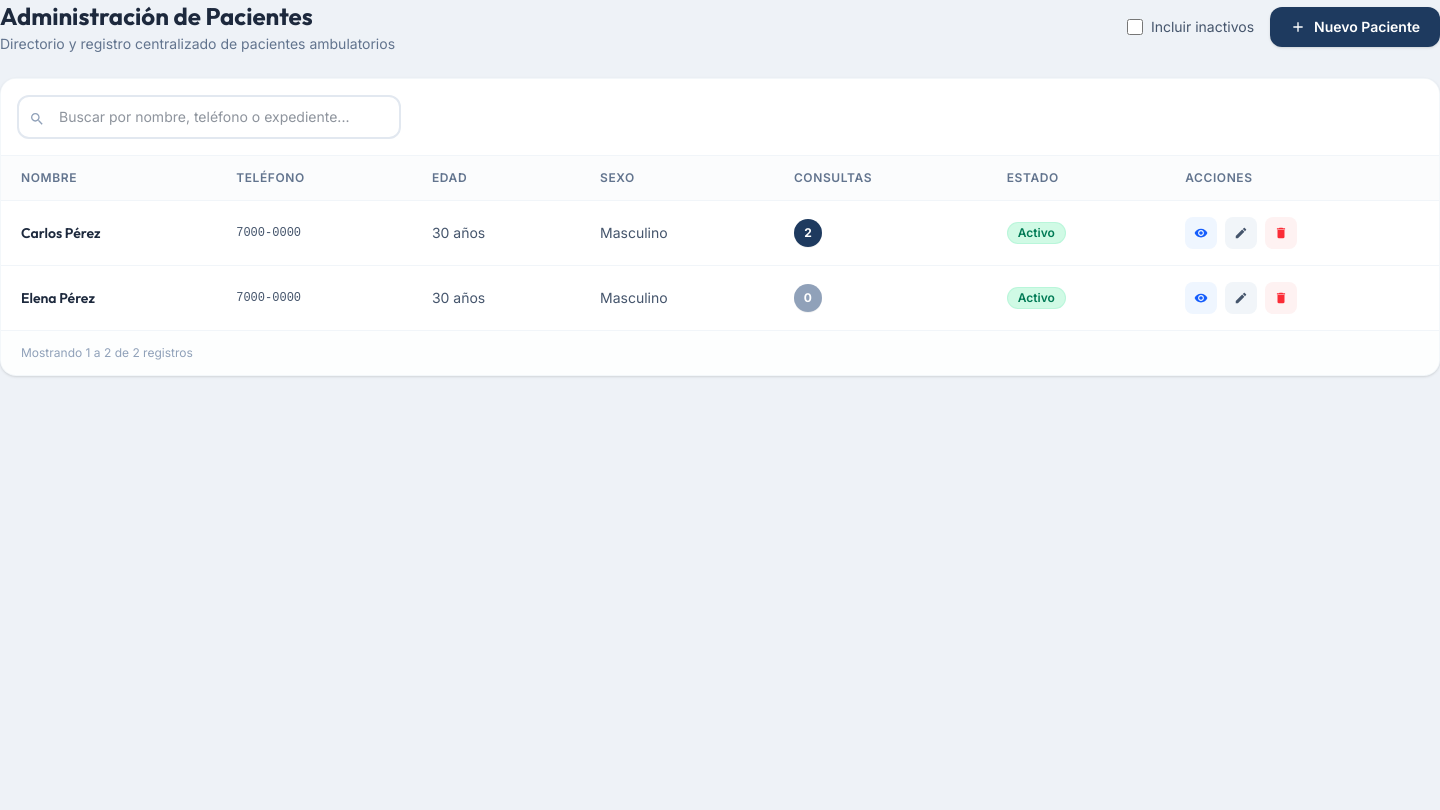
Test case: pacientes · confirmación antes de dar de baja › el icono de la fila no da de baja: solo pide confirmación
This screenshot has width=1440, height=810.
Expected: the link "Carlos Pérez" is shown, [21,224,100,242]
Click the 1st button titled "Desactivar paciente" at (1281, 233), box [1265,217,1297,249]
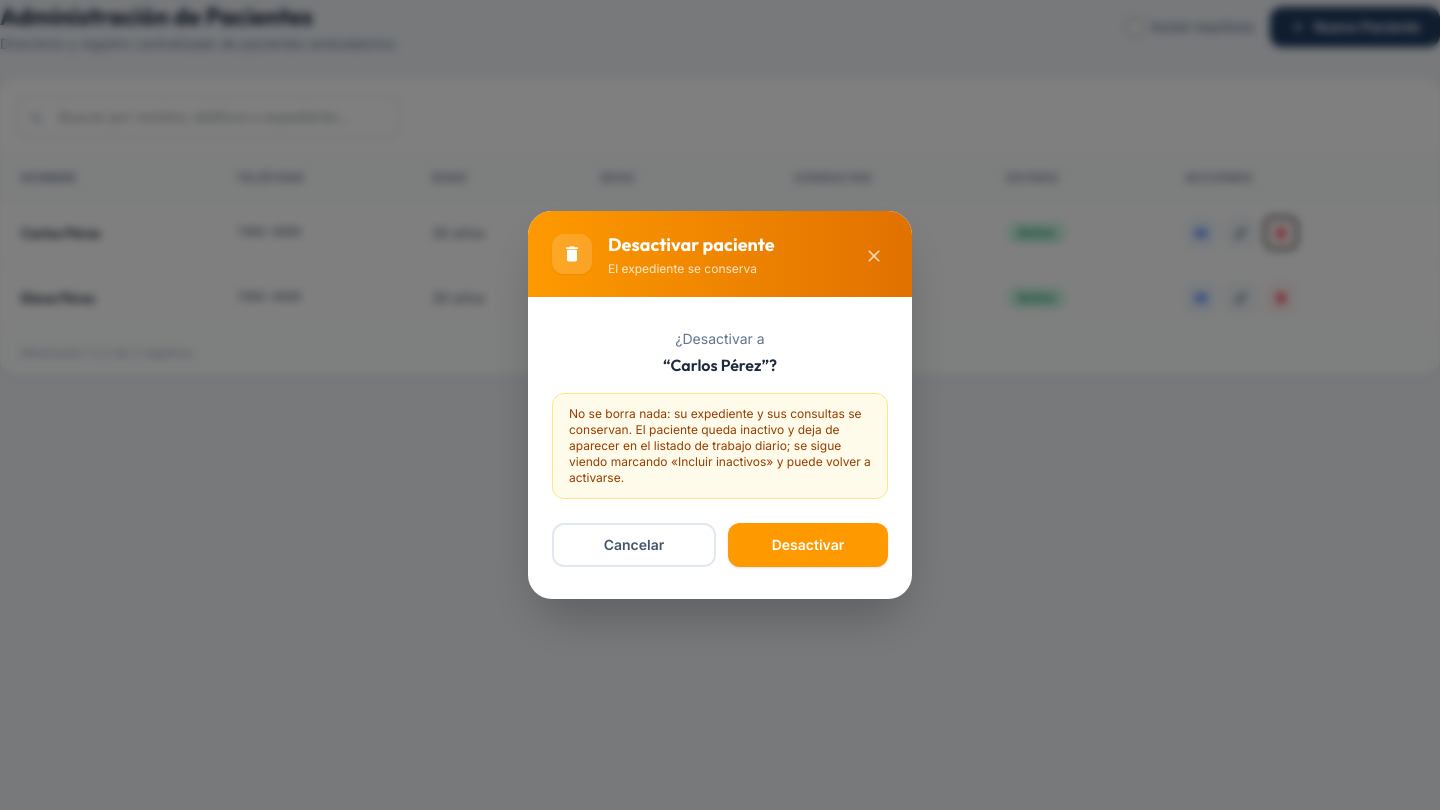
Expected: the link "Carlos Pérez" is shown, [21,224,100,242]
Expected: the dialog is shown
